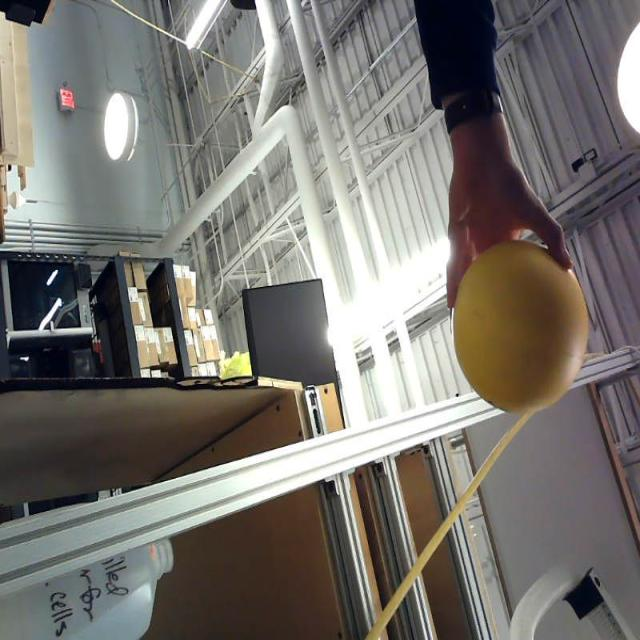Fuel: (450, 238, 589, 414)
